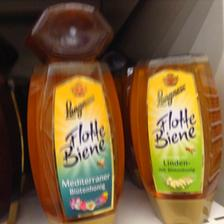Honig: (15, 61, 130, 222), (132, 55, 222, 223)
